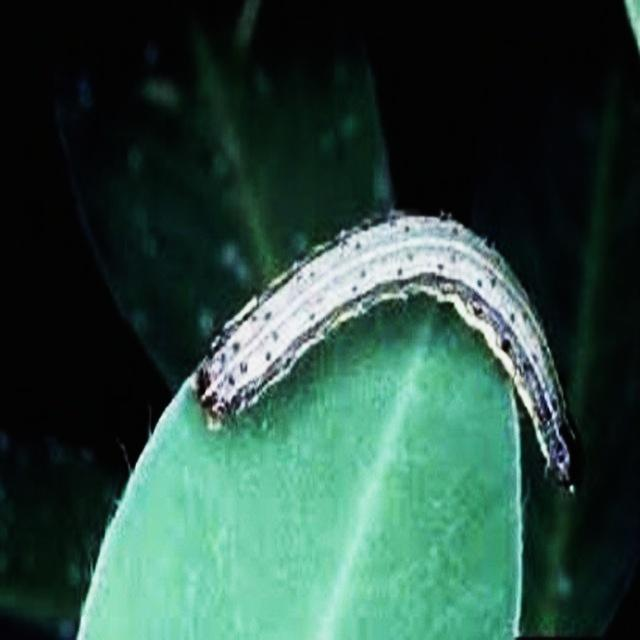gusano_cogollero: (195, 212, 580, 495)
